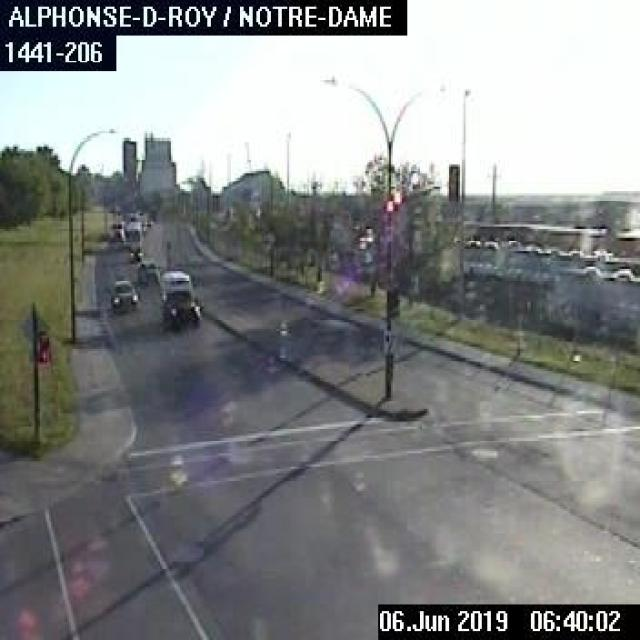vehicle: (154, 267, 200, 324), (108, 273, 136, 309), (135, 258, 159, 286), (124, 218, 141, 246), (106, 216, 124, 242), (129, 247, 142, 260)
